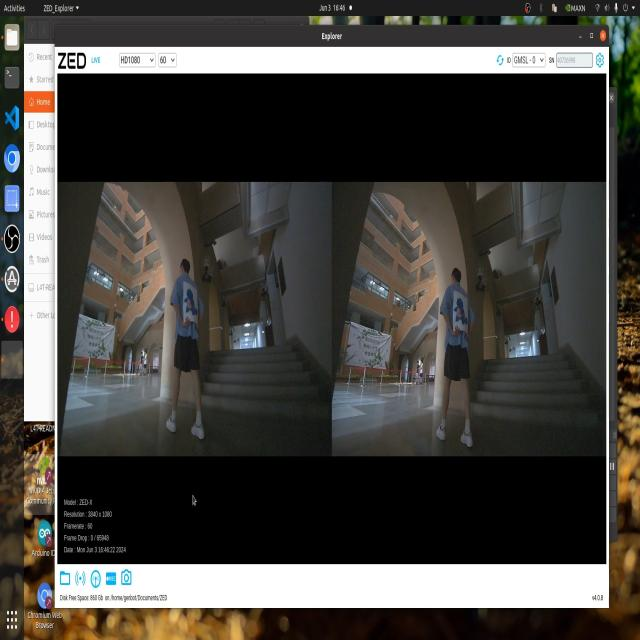blue: (452, 294, 467, 334), (178, 289, 196, 321)
